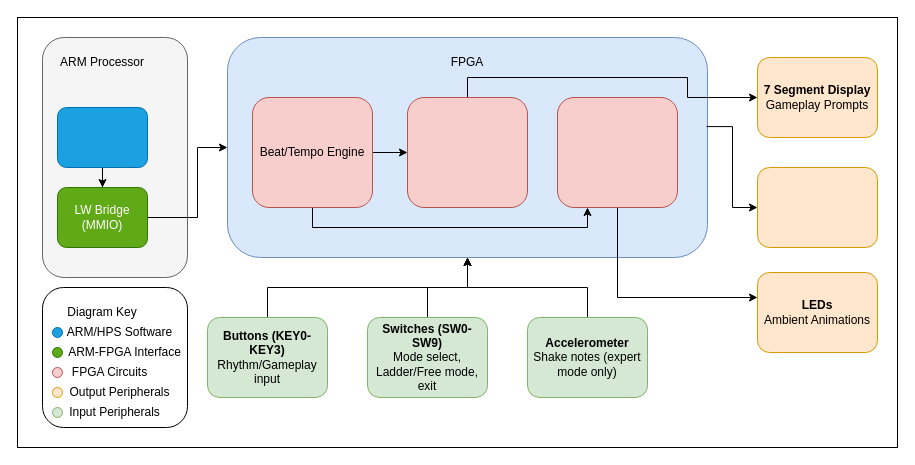
The diagram is 915 pixels wide and 465 high, and some of its shapes have lost their labels. Each missing label, with the centre of its shape:
C Program: pixel 102 137
HEX Display Prompt Driver: pixel 467 152
LCD Display Game mode, Score, Prompts: pixel 817 207
LED Animation Controller: pixel 617 152
